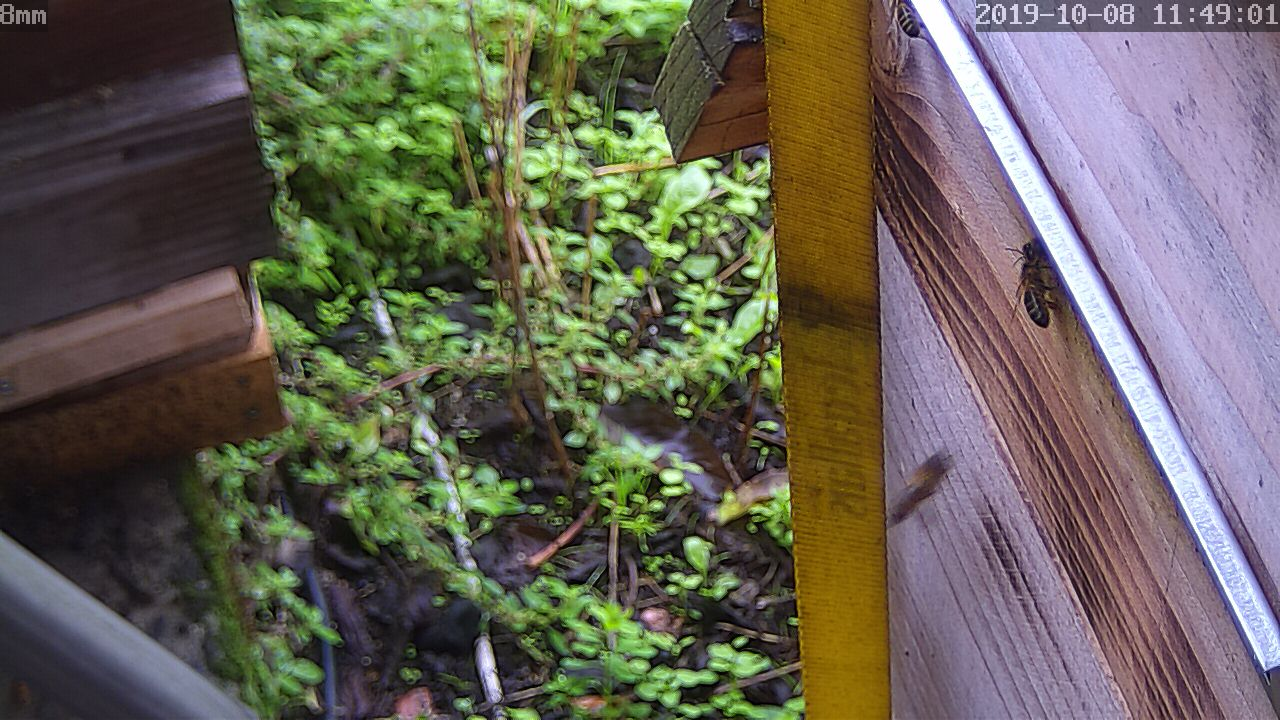bee: (1003, 226, 1066, 330)
